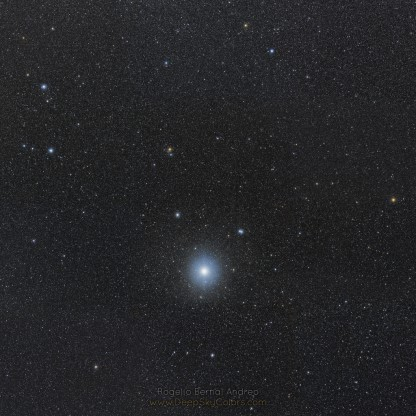Lyra: (180, 245, 223, 298), (36, 75, 59, 94), (159, 139, 178, 158), (235, 219, 249, 243), (169, 206, 185, 226), (45, 144, 59, 162)
